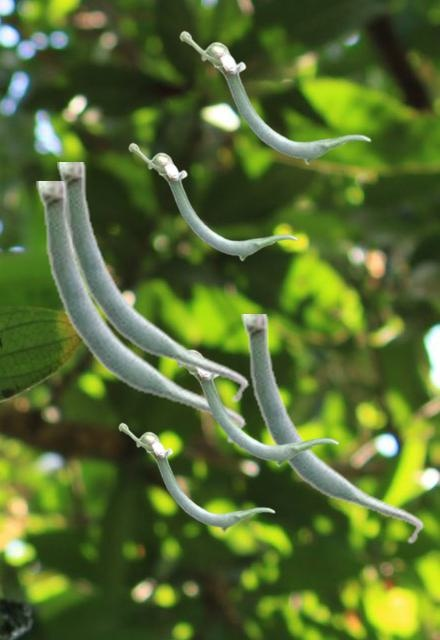french_bean: (36, 181, 245, 444), (57, 162, 248, 403), (241, 314, 423, 544), (179, 30, 370, 164), (128, 142, 297, 260), (174, 347, 338, 466), (118, 422, 274, 531)
